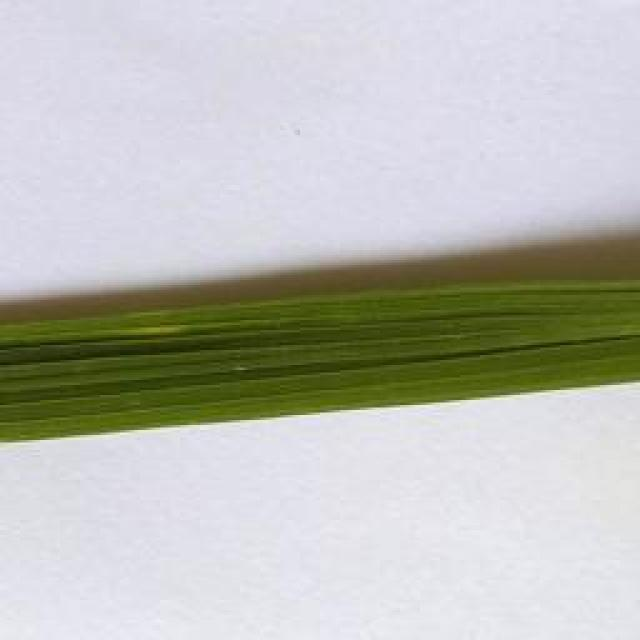Healthy-Plant: (220, 280, 640, 424), (0, 305, 212, 435)
